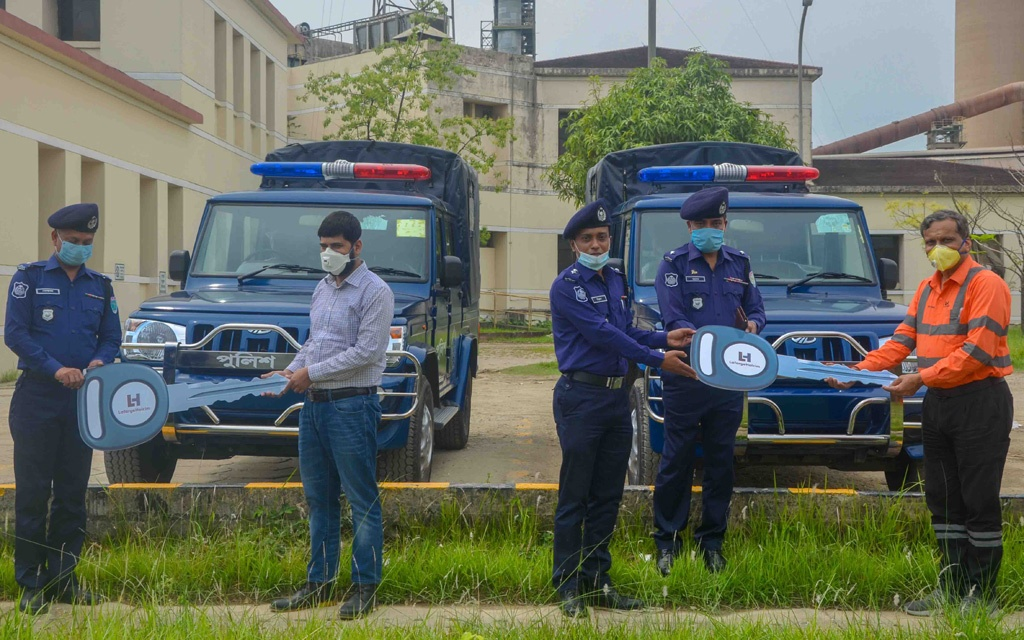policecar: (102, 137, 483, 482), (583, 137, 936, 497)
